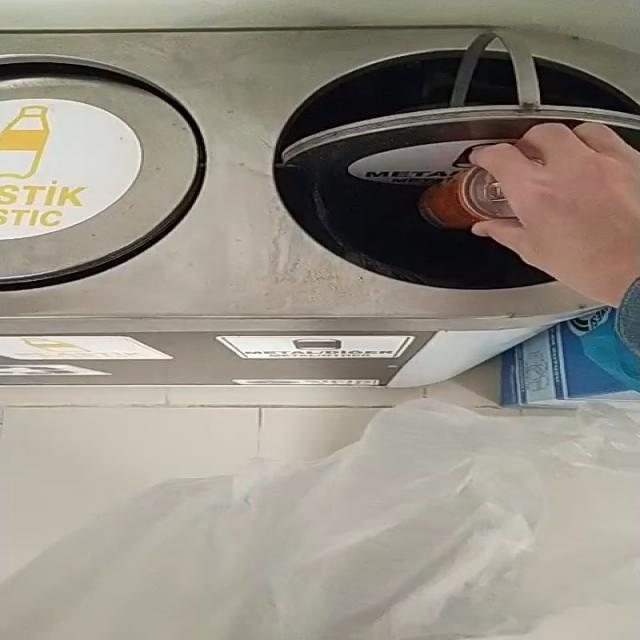Bin: (0, 28, 639, 387)
Metal: (419, 165, 517, 229)
